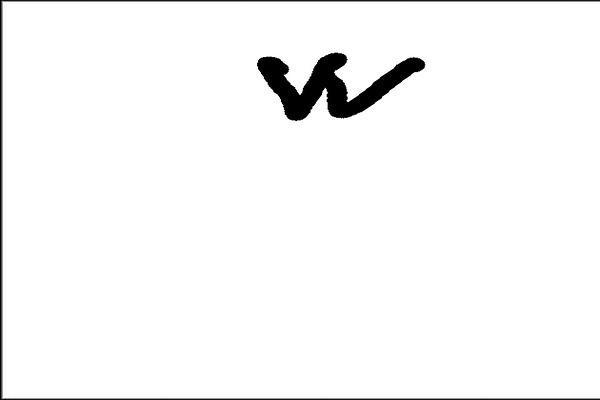w: (250, 38, 436, 135)
